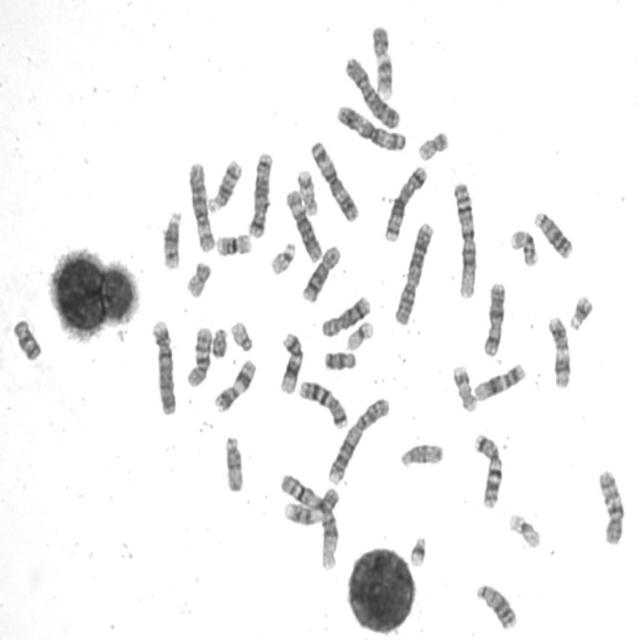A1: (277, 469, 340, 573), (450, 177, 479, 301)
A2: (325, 394, 391, 486), (391, 218, 435, 327)
A3: (308, 137, 360, 223), (334, 101, 408, 153)
B4: (342, 52, 402, 130), (148, 316, 178, 417)
B5: (381, 162, 428, 244), (246, 149, 274, 239)
C10: (595, 465, 626, 547), (183, 323, 213, 388)
C11: (211, 356, 257, 414), (545, 312, 572, 390)
C12: (471, 359, 527, 404), (276, 330, 304, 395)
C6: (284, 186, 323, 264), (186, 158, 217, 253)
C7: (296, 378, 349, 431), (471, 429, 504, 511)
C8: (299, 242, 343, 304), (318, 292, 372, 339)
C9: (281, 482, 341, 526), (368, 21, 394, 100)
D13: (473, 580, 518, 631), (531, 208, 574, 260)
D14: (206, 155, 243, 214), (159, 207, 184, 271)
D15: (221, 432, 245, 494), (397, 440, 445, 469)
E16: (508, 227, 540, 268), (213, 229, 253, 258)
E17: (449, 362, 478, 414), (293, 167, 319, 217)
E18: (9, 315, 43, 363), (321, 348, 358, 373)
F19: (506, 509, 542, 550), (344, 318, 376, 352)
F20: (415, 127, 451, 162), (183, 258, 213, 299)
G21: (566, 291, 594, 332), (406, 532, 428, 569)
G22: (268, 238, 298, 276), (227, 318, 255, 353)
X: (480, 279, 508, 358)
Y: (209, 324, 229, 360)
